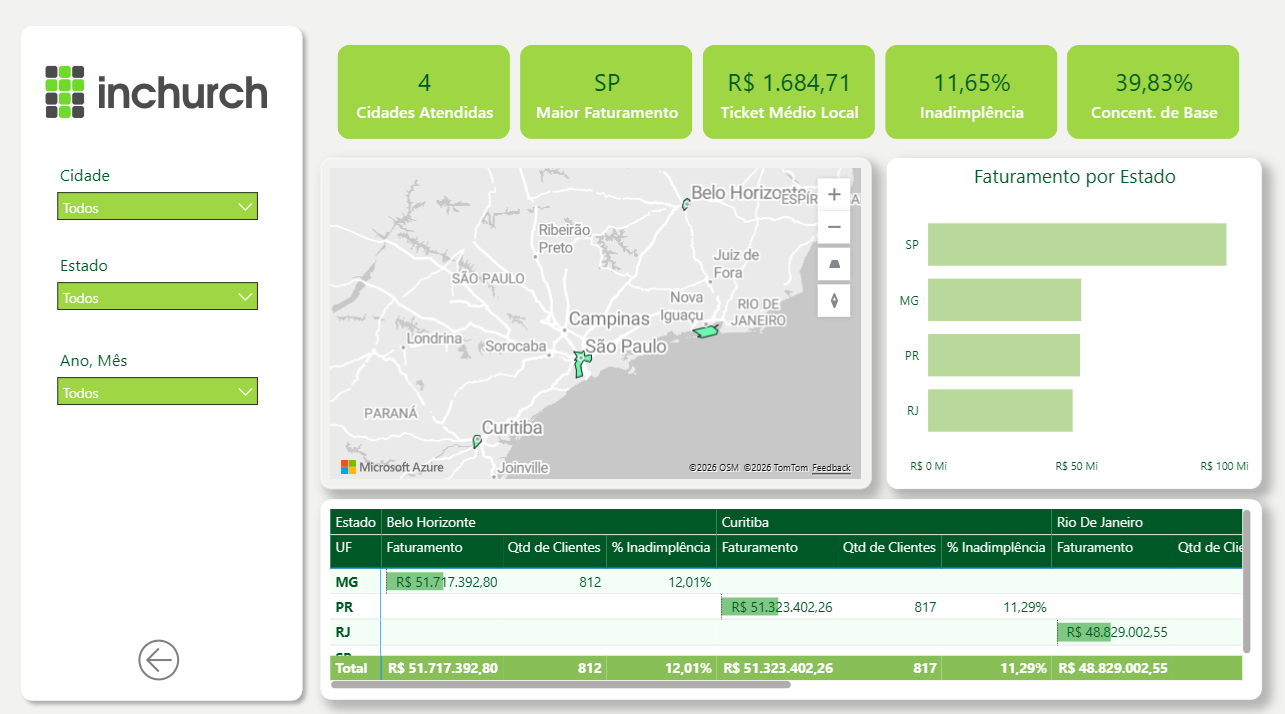

What the dashboard file says about the page in this screenshot:
{"tool":"powerbi","page":{"name":"Visão Regional","canvas":[1280,720],"ordinal":3},"visuals":[{"type":"shape","box":[22.9,27.7,294.4,680.4],"z":0,"group":"g1"},{"type":"azureMap","fields":{"Category":["fBaseConsolidada.cidade","fBaseConsolidada.estado"]},"box":[326,167.2,540.5,324.6],"z":0},{"type":"group","id":"g1","title":"Grupo 1","box":[22.9,27.7,294.4,680.4],"z":1000},{"type":"cardVisual","fields":{"Data":["Medidas (Visão Geral Financeira).Total_Cidades_Atendidas","Medidas (Visão Geral Financeira).Estado_Lider","Medidas (Visão Geral Financeira).Media_Faturamento_Regional","Medidas (Visão Geral Financeira).Inadimplencia_Geo_","Medidas (Visão Geral Financeira).Concentracao_Base"]},"box":[326,39,923.6,126.8],"z":2000},{"type":"actionButton","box":[141.2,633.4,56.7,53.1],"z":3000},{"type":"barChart","title":"Faturamento por Estado","fields":{"Y":["Medidas.VL_Total_Faturado"],"Category":["fBaseConsolidada.estado"]},"box":[881.8,167.2,367.8,324.6],"z":4000},{"type":"slicer","fields":{"Values":["dCalendario.Date.Variation.Hierarquia de datas.Ano","dCalendario.Date.Variation.Hierarquia de datas.Mês"]},"box":[56.7,348.5,217.3,71],"z":4000,"group":"g1"},{"type":"image","box":[56,55,217.3,93.3],"z":5000},{"type":"pivotTable","fields":{"Rows":["fBaseConsolidada.estado"],"Columns":["fBaseConsolidada.cidade"],"Values":["Medidas.VL_Total_Faturado","Medidas.Clientes_Unicos","Medidas.% Inadimplência Regional"]},"box":[326,501.5,923.6,196.4],"z":6000},{"type":"slicer","fields":{"Values":["fBaseConsolidada.cidade"]},"box":[56.7,166.4,217.2,72.4],"z":9000,"group":"g1"},{"type":"slicer","fields":{"Values":["fBaseConsolidada.estado"]},"box":[56.7,254.8,217.2,66.4],"z":11000,"group":"g1"}]}

Visuals, with their boxes in screenshot pixels (x1, y1, x2, y2), scaled from the page's 1280x720 canvas onto the 1285x714 screenshot:
shape: <region>23, 27, 319, 702</region>
azureMap - fBaseConsolidada.cidade x fBaseConsolidada.estado: <region>327, 166, 870, 488</region>
"Grupo 1" group: <region>23, 27, 319, 702</region>
cardVisual - Medidas (Visão Geral Financeira).Total_Cidades_Atendidas x Medidas (Visão Geral Financeira).Estado_Lider: <region>327, 39, 1254, 164</region>
actionButton: <region>142, 628, 199, 681</region>
"Faturamento por Estado" barChart: <region>885, 166, 1254, 488</region>
slicer - dCalendario.Date.Variation.Hierarquia de datas.Ano x dCalendario.Date.Variation.Hierarquia de datas.Mês: <region>57, 346, 275, 416</region>
image: <region>56, 55, 274, 147</region>
pivotTable - fBaseConsolidada.estado x fBaseConsolidada.cidade: <region>327, 497, 1254, 692</region>
slicer - fBaseConsolidada.cidade: <region>57, 165, 275, 237</region>
slicer - fBaseConsolidada.estado: <region>57, 253, 275, 319</region>
